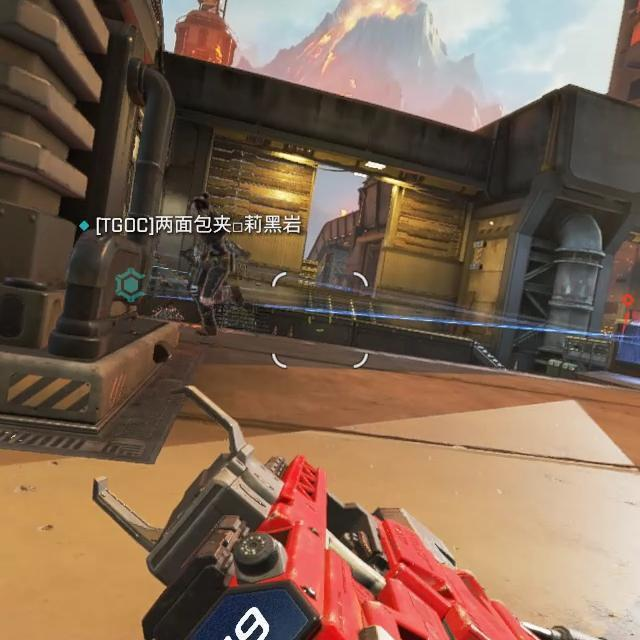avatar: (184, 190, 239, 340)
